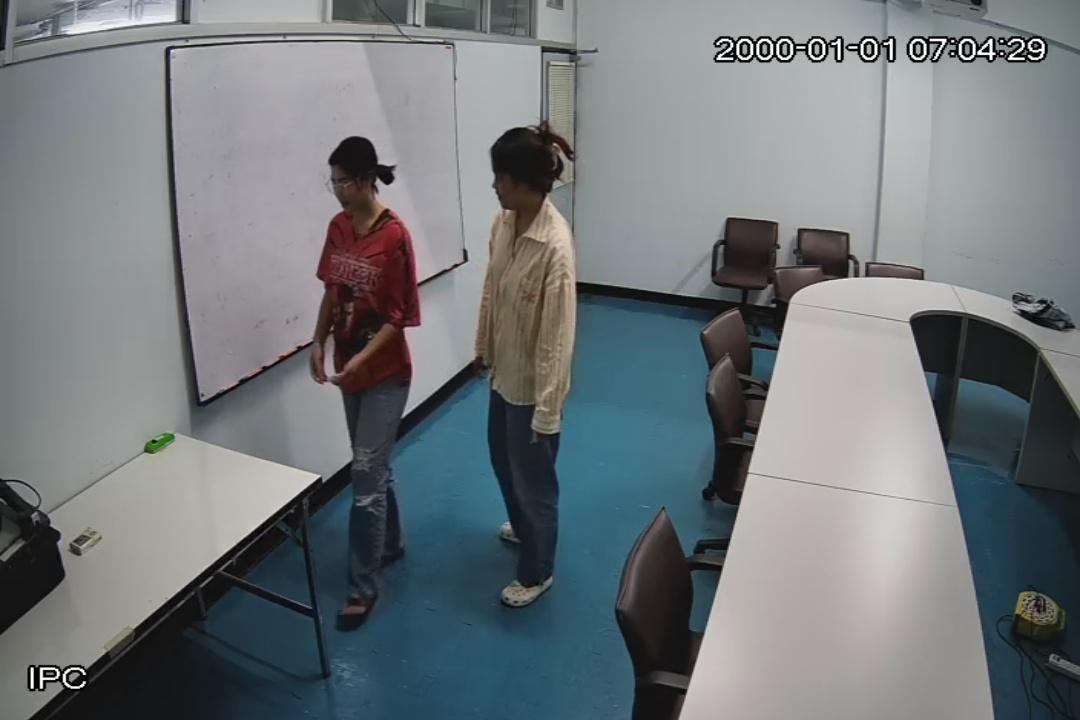normal: (317, 135, 427, 622), (474, 126, 581, 605)
